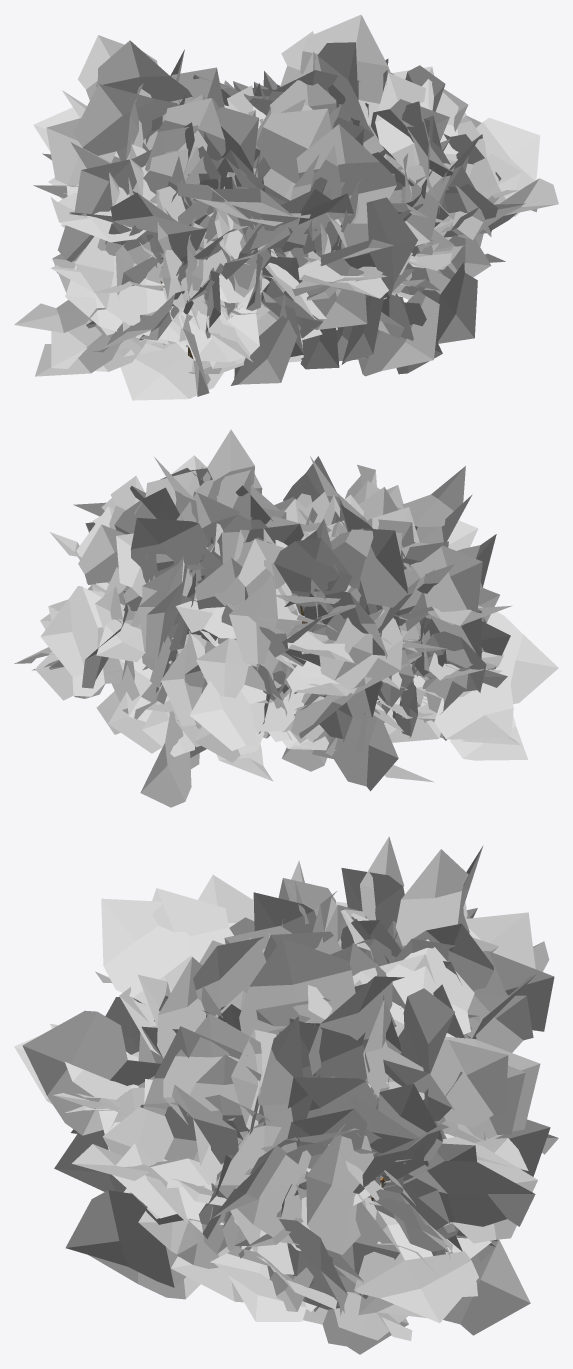
The model's file is bush2.fbx.
3 renders of one model, top to bottom at view 1: azimuth 30°, elevation 25°; view 2: azimuth 150°, elevation 25°; view 3: azimuth 270°, elevation 25°, orthographic. The views are drawn at different scales.
Visible parts, largest first — view 1: Cube.007|branch|Dupli|176, Cube.007|branch|Dupli|251, Cube.007|branch|Dupli|431, Cube.007|branch|Dupli|167, Cube.007|branch|Dupli|10, Cube.007|branch|Dupli|361, Cube.007|branch|Dupli|99, Cube.007|branch|Dupli|264, Cube.007|branch|Dupli|409, Cube.007|branch|Dupli|694, Cube.007|branch|Dupli|386, Cube.007|branch|Dupli|367 (+78 smaller); view 2: Cube.007|branch|Dupli|555, Cube.007|branch|Dupli|153, Cube.007|branch|Dupli|46, Cube.007|branch|Dupli|279, Cube.007|branch|Dupli|211, Cube.007|branch|Dupli|593, Cube.007|branch|Dupli|17, Cube.007|branch|Dupli|251, Cube.007|branch|Dupli|269, Cube.007|branch|Dupli|364, Cube.007|branch|Dupli|499, Cube.007|branch|Dupli|37 (+69 smaller); view 3: Cube.007|branch|Dupli|167, Cube.007|branch|Dupli|603, Cube.007|branch|Dupli|321, Cube.007|branch|Dupli|111, Cube.007|branch|Dupli|694, Cube.007|branch|Dupli|627, Cube.007|branch|Dupli|593, Cube.007|branch|Dupli|596, Cube.007|branch|Dupli|213, Cube.007|branch|Dupli|264, Cube.007|branch|Dupli|499, Cube.007|branch|Dupli|657 (+67 smaller).
Part boxes in pixels (x1,y1,x2,y2): Cube.007|branch|Dupli|176: (256, 108, 341, 200); Cube.007|branch|Dupli|251: (73, 84, 178, 161); Cube.007|branch|Dupli|431: (296, 124, 396, 224); Cube.007|branch|Dupli|167: (331, 197, 417, 298); Cube.007|branch|Dupli|10: (120, 342, 223, 400); Cube.007|branch|Dupli|361: (74, 236, 166, 325); Cube.007|branch|Dupli|99: (300, 14, 390, 126); Cube.007|branch|Dupli|264: (96, 40, 192, 104); Cube.007|branch|Dupli|409: (358, 291, 439, 376); Cube.007|branch|Dupli|694: (421, 262, 477, 343); Cube.007|branch|Dupli|386: (231, 312, 300, 385); Cube.007|branch|Dupli|367: (110, 192, 207, 263); Cube.007|branch|Dupli|555: (413, 669, 513, 739); Cube.007|branch|Dupli|153: (399, 542, 482, 631); Cube.007|branch|Dupli|46: (190, 680, 279, 750); Cube.007|branch|Dupli|279: (274, 538, 352, 619); Cube.007|branch|Dupli|211: (130, 517, 208, 583); Cube.007|branch|Dupli|593: (40, 586, 103, 676); Cube.007|branch|Dupli|17: (309, 709, 398, 791); Cube.007|branch|Dupli|251: (330, 528, 407, 610); Cube.007|branch|Dupli|269: (229, 572, 302, 664); Cube.007|branch|Dupli|364: (486, 612, 558, 703); Cube.007|branch|Dupli|499: (140, 711, 206, 807); Cube.007|branch|Dupli|37: (196, 638, 281, 697); Cube.007|branch|Dupli|167: (22, 1010, 160, 1135); Cube.007|branch|Dupli|603: (354, 1210, 478, 1323); Cube.007|branch|Dupli|321: (101, 898, 191, 1005); Cube.007|branch|Dupli|111: (239, 938, 355, 1036); Cube.007|branch|Dupli|694: (65, 1190, 186, 1287); Cube.007|branch|Dupli|627: (306, 1123, 376, 1254); Cube.007|branch|Dupli|593: (382, 1161, 535, 1226); Cube.007|branch|Dupli|596: (214, 1125, 382, 1244); Cube.007|branch|Dupli|213: (430, 1040, 508, 1127); Cube.007|branch|Dupli|264: (395, 849, 468, 948); Cube.007|branch|Dupli|499: (443, 1239, 530, 1335); Cube.007|branch|Dupli|657: (163, 1013, 262, 1144).
Bounding box in the file's own units: 425 × 277 × 334.
2 materials, 1 textured.
